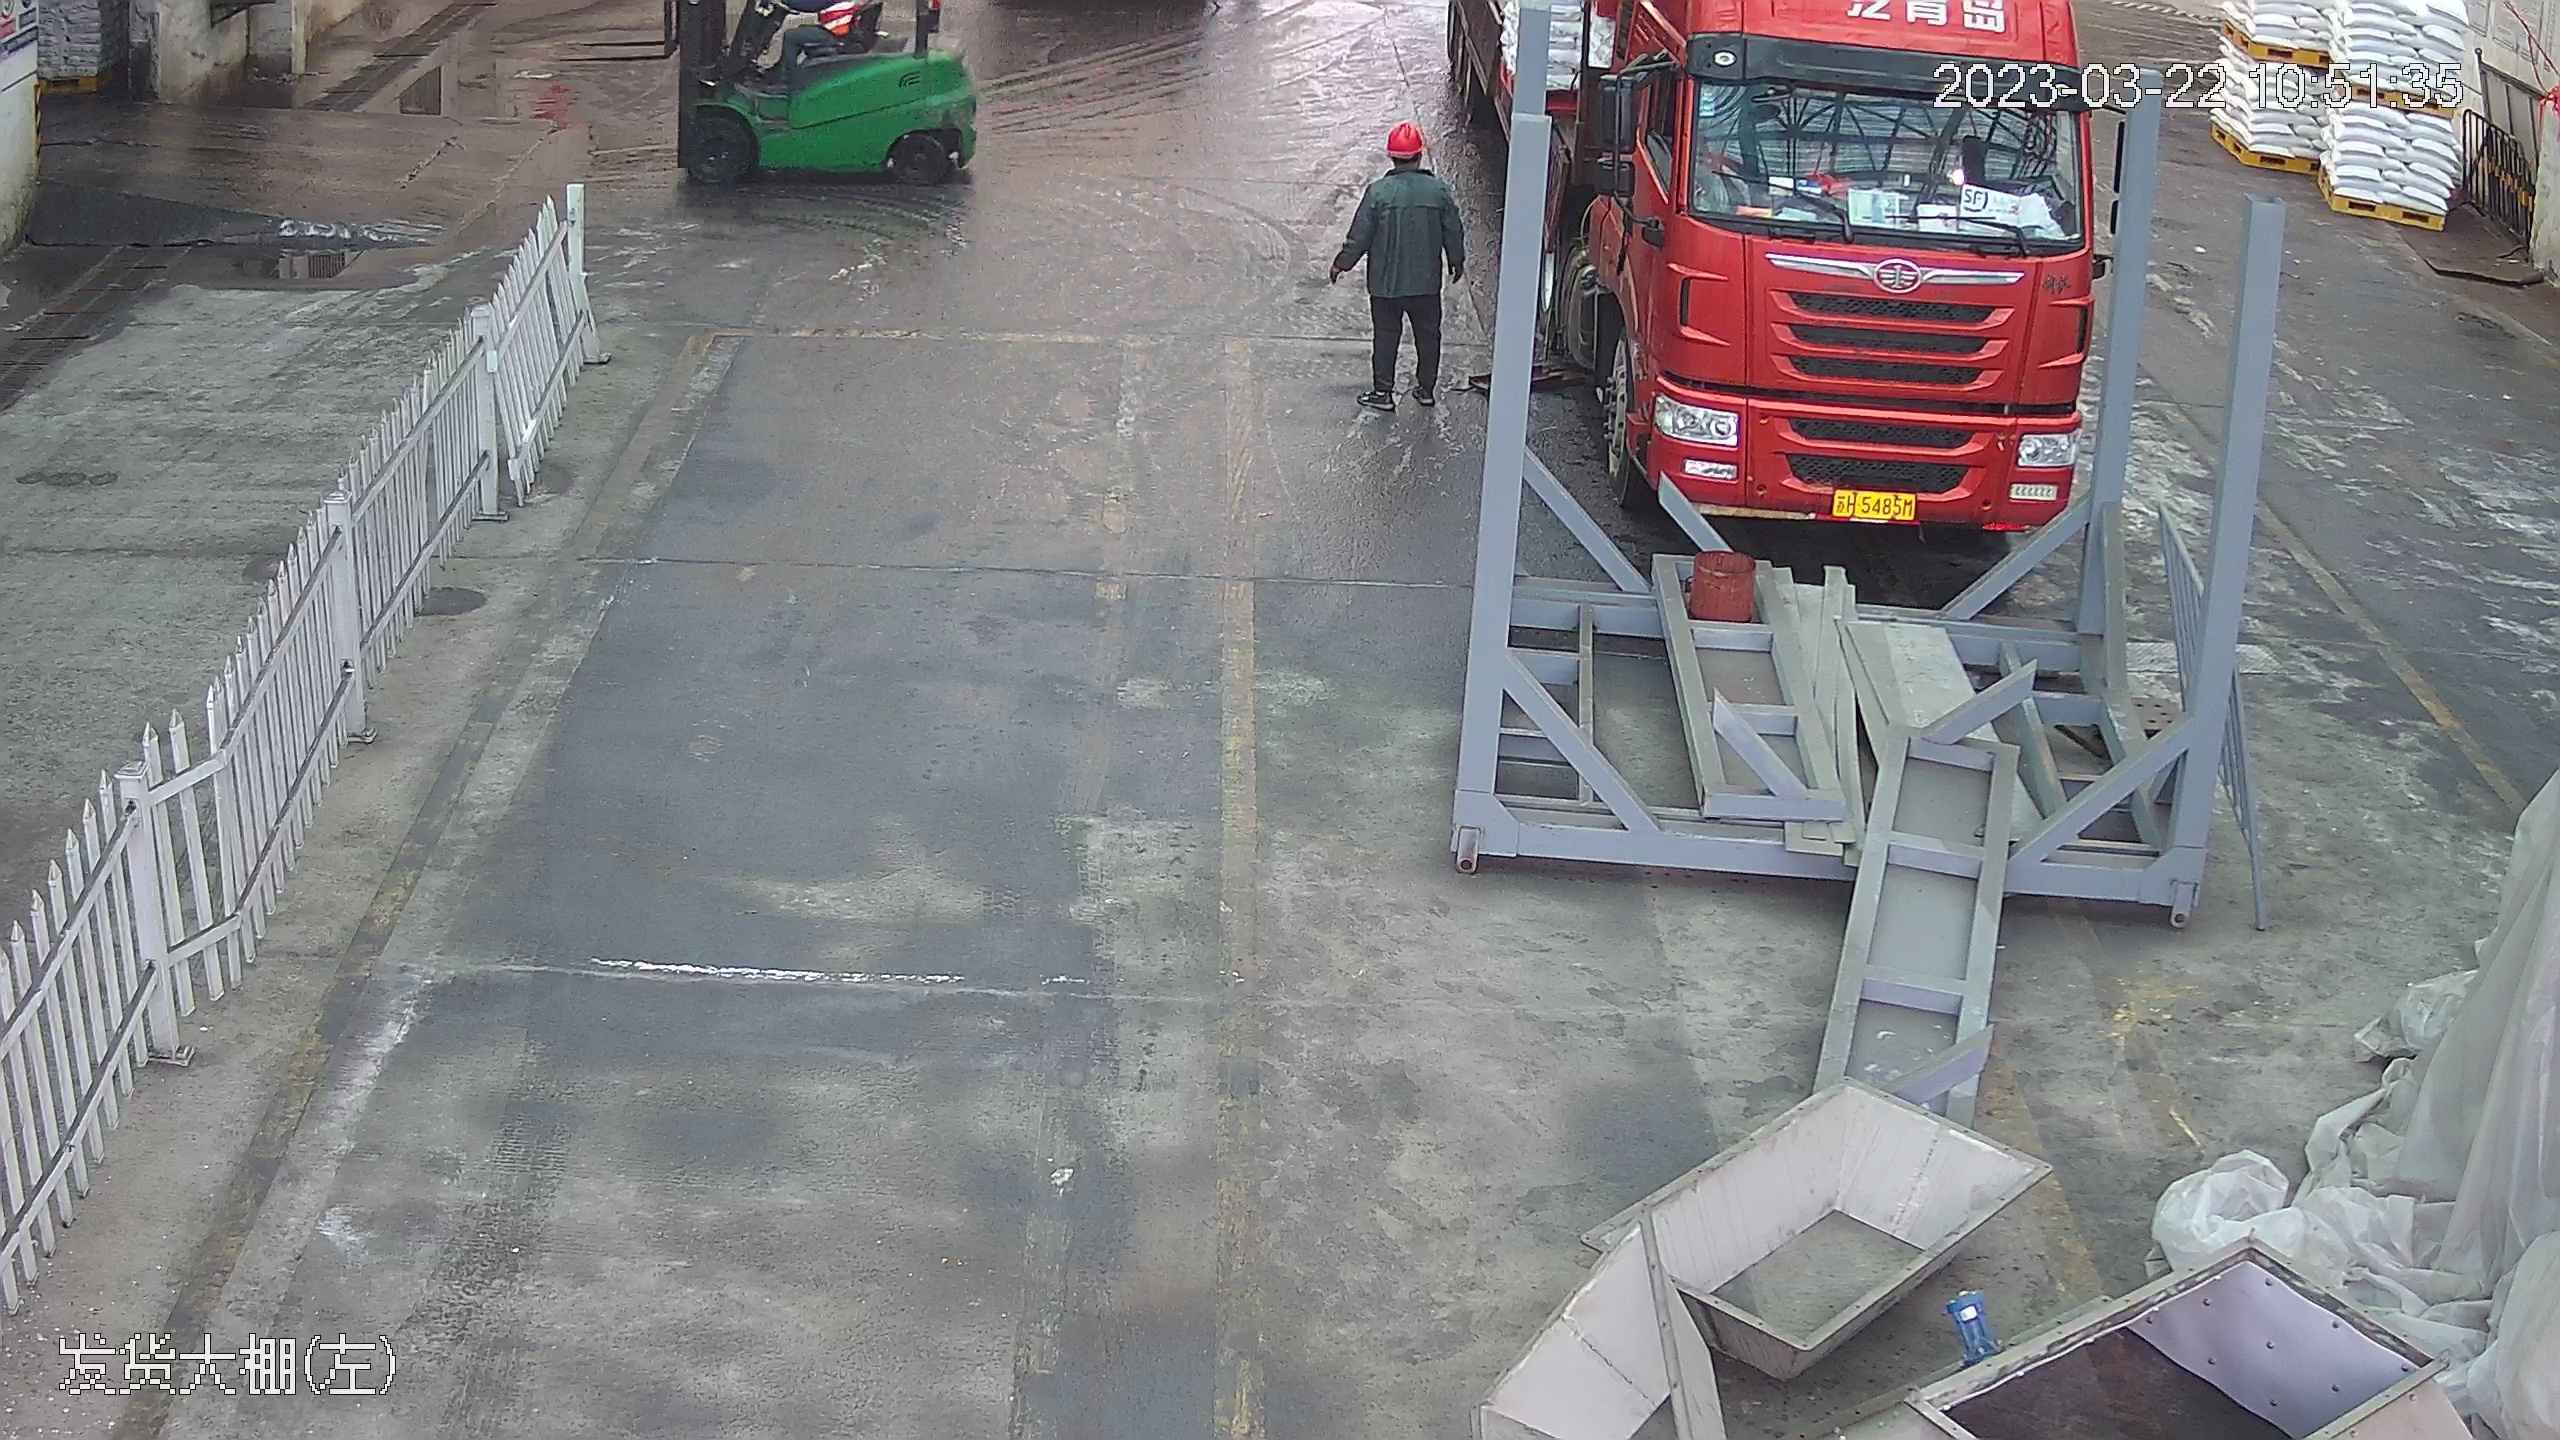head: (1359, 119, 1451, 207)
helmet: (1384, 120, 1426, 153)
people: (1325, 118, 1464, 414)
truck: (1500, 1, 2116, 539)
